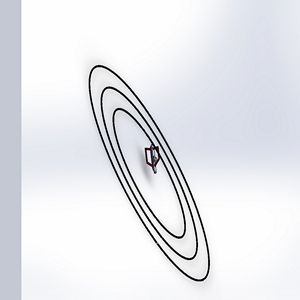circle: (72, 56, 221, 288)
submarine: (137, 141, 165, 186)
